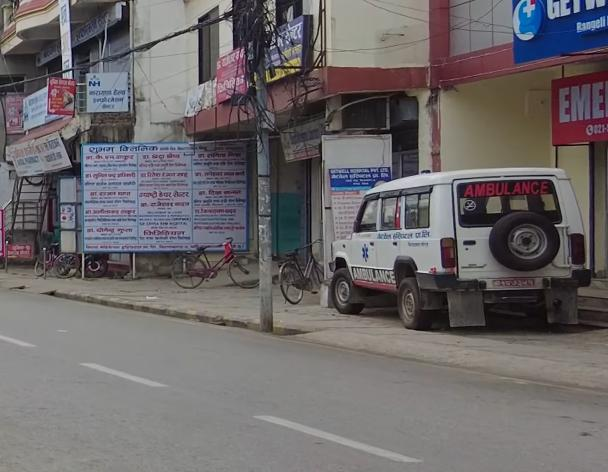ambulance: (322, 163, 595, 346)
